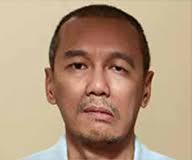strokeEyeMid: (60, 45, 135, 81)
strokeMouthMid: (77, 97, 120, 123)
